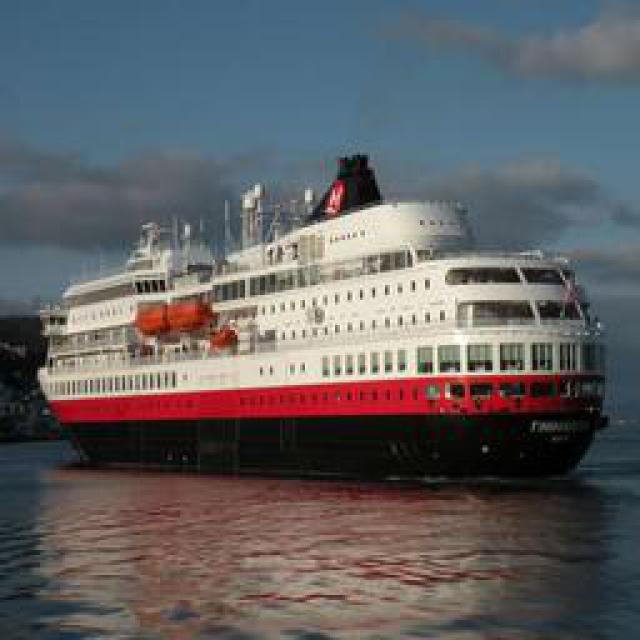Ship: (44, 183, 609, 478)
